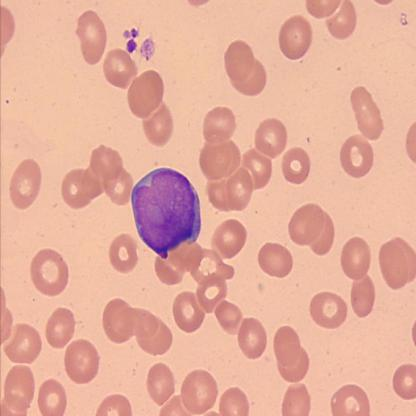Blast: (127, 163, 202, 260)
